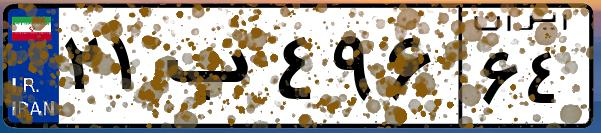1: (110, 28, 158, 98)
2: (57, 26, 110, 100)
4: (270, 28, 330, 110), (525, 38, 570, 115)
6: (385, 28, 445, 110), (475, 38, 525, 113)
9: (330, 28, 385, 110)
ب: (158, 20, 270, 120)
